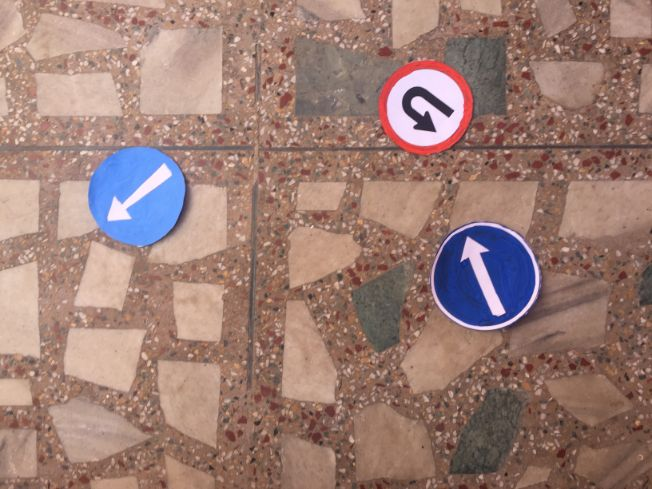go-stright: (430, 220, 541, 331)
keep-left: (88, 149, 187, 246)
u-turn: (377, 59, 471, 153)
